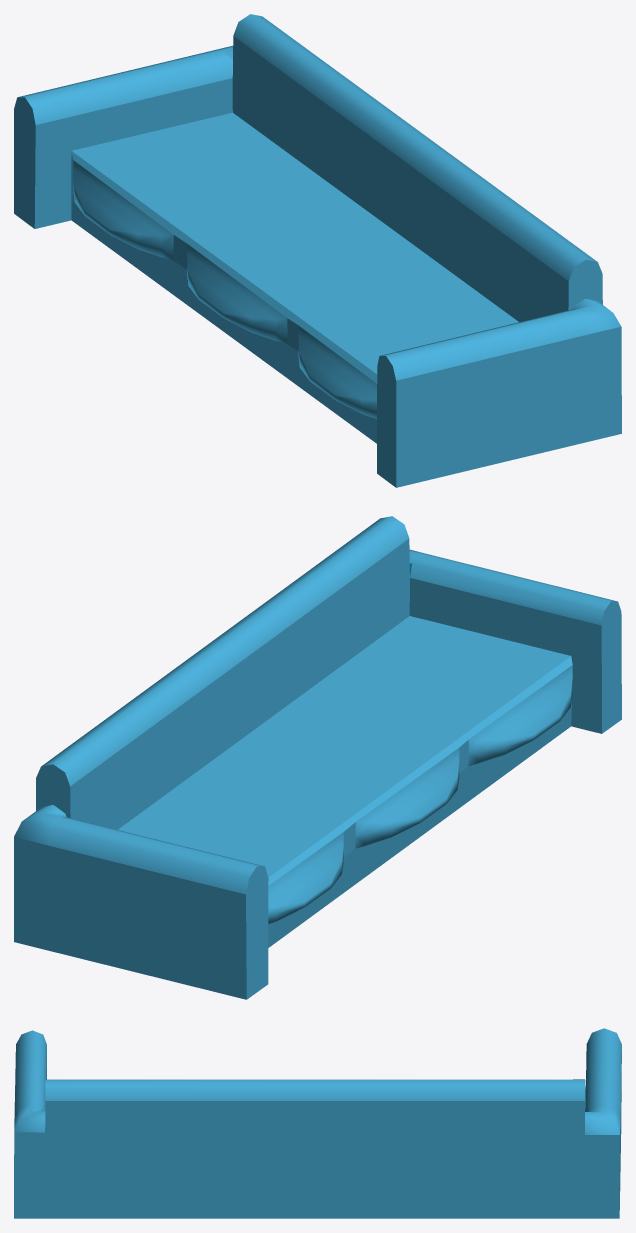
File: Sofa.fbx
3 views of the same model, one above another, from view 1: azimuth 30°, elevation 25°; view 2: azimuth 150°, elevation 25°; view 3: azimuth 270°, elevation 25° (orthographic). The views are drawn at different scales.
Parts seen in each view (by area): view 1: Cube.002; view 2: Cube.002; view 3: Cube.002.
Part boxes in pixels (<box>): Cube.002: <box>14,14,621,487</box>; Cube.002: <box>14,516,621,999</box>; Cube.002: <box>14,1028,621,1218</box>.
Size of the model in its own units: 0.7583 by 0.5144 by 2.15.
